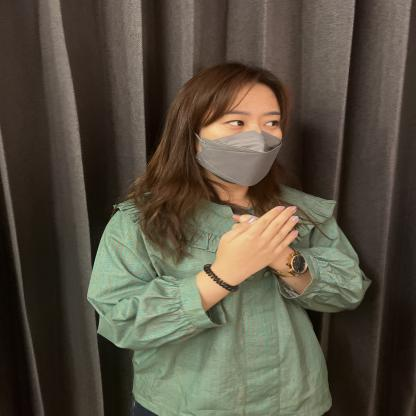Grieve: (86, 170, 379, 293)
